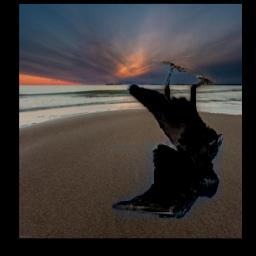Crow: (111, 61, 222, 219)
